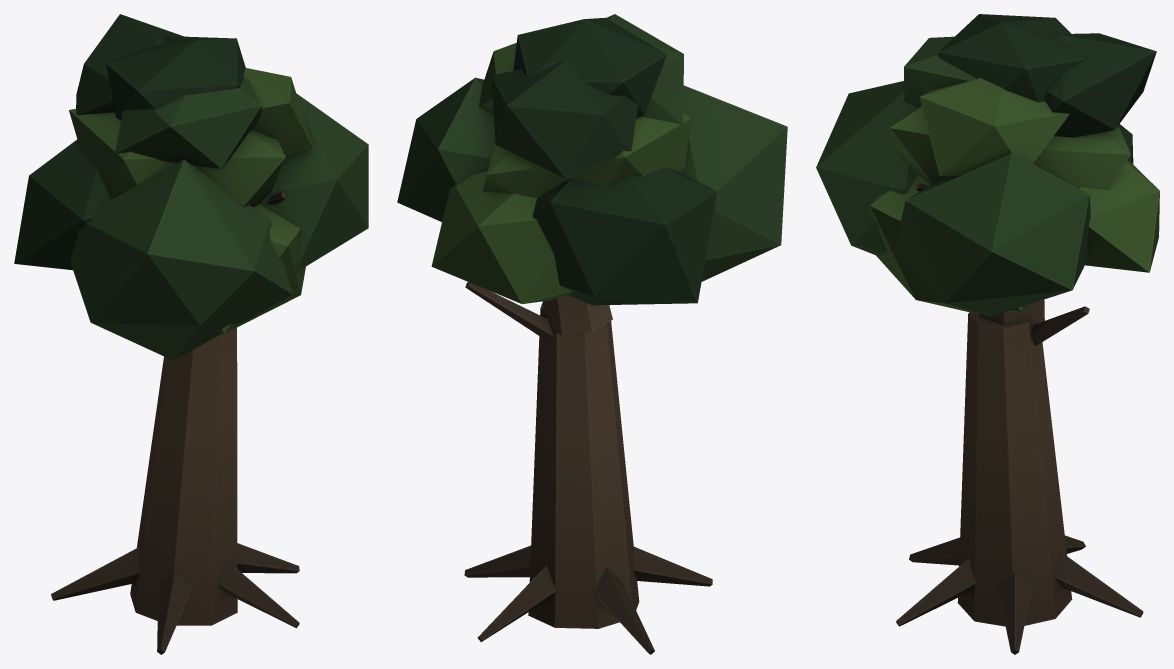
Rendered from decor_tree_green.glb.
3 renders of one model, left to right at view 1: azimuth 30°, elevation 25°; view 2: azimuth 150°, elevation 25°; view 3: azimuth 270°, elevation 25°, orthographic. The views are drawn at different scales.
Parts seen in each view (by area): view 1: decor_tree_green; view 2: decor_tree_green; view 3: decor_tree_green.
Part boxes in pixels (left/top/right/bottom): decor_tree_green: left=14, top=14, right=368, bottom=654; decor_tree_green: left=397, top=14, right=787, bottom=654; decor_tree_green: left=816, top=14, right=1159, bottom=654.
Size of the model in its own units: 2.75 by 4.74 by 2.52.
Materials: 1 (1 with a texture image).
